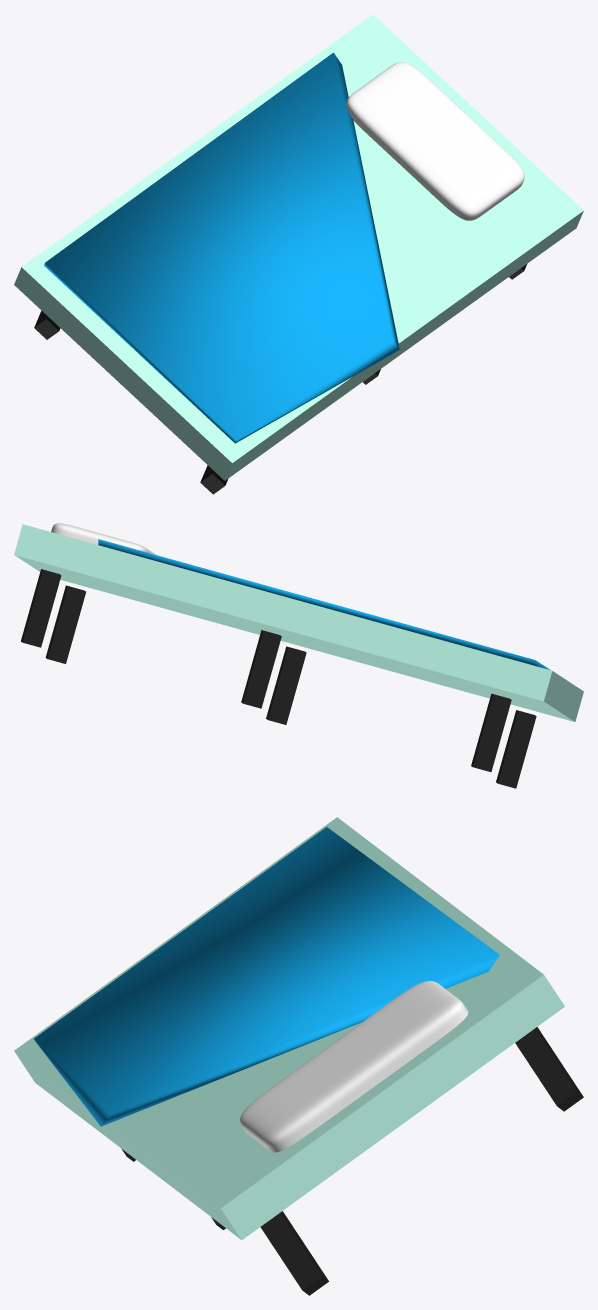
Rendered from Letto.fbx.
3 renders of one model, top to bottom at view 1: azimuth 30°, elevation 25°; view 2: azimuth 150°, elevation 25°; view 3: azimuth 270°, elevation 25°, orthographic. The views are drawn at different scales.
Parts seen in each view (by area): view 1: coperta, letto, cuscino, piedini; view 2: letto, piedini, coperta, cuscino; view 3: coperta, letto, cuscino, piedini.
Boxes of the visible parts, box(x1,y1,x2,y2) form: coperta: box(44, 52, 399, 443); letto: box(14, 14, 583, 480); cuscino: box(346, 62, 524, 220); piedini: box(34, 264, 526, 494); letto: box(14, 524, 583, 721); piedini: box(21, 569, 536, 788); coperta: box(98, 539, 550, 670); cuscino: box(51, 523, 156, 554); coperta: box(34, 827, 499, 1126); letto: box(14, 817, 564, 1239); cuscino: box(240, 981, 468, 1152); piedini: box(122, 1027, 583, 1295).
Bounding box in the file's own units: 1058 × 564 × 750.
